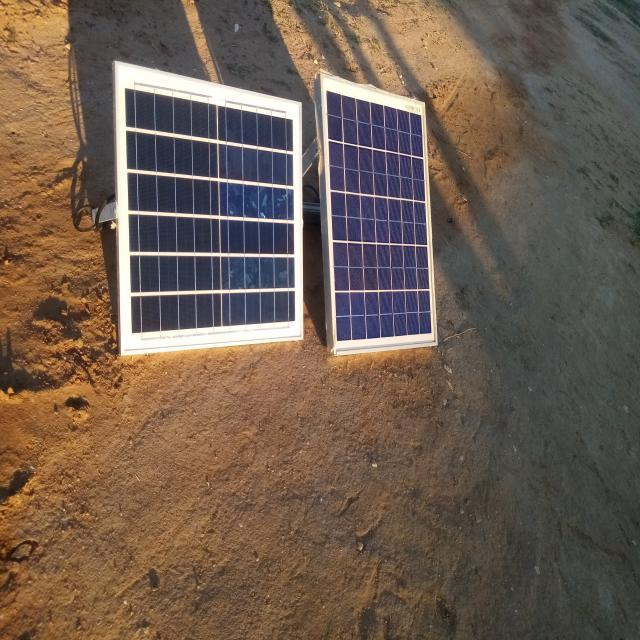no faulty: (115, 65, 302, 353), (320, 72, 436, 351)
